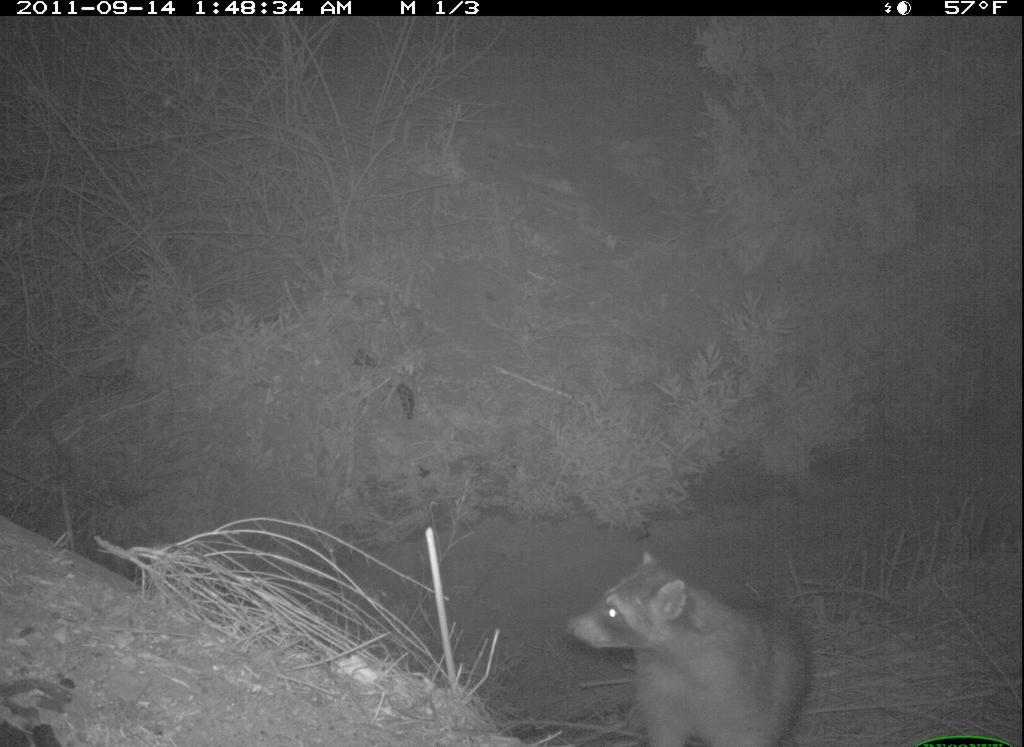raccoon: (569, 547, 815, 740)
